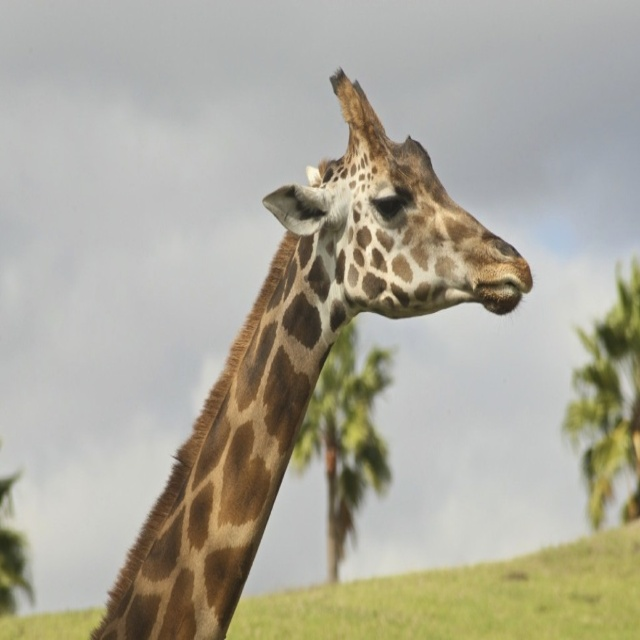Giraffe: (85, 59, 536, 639)
